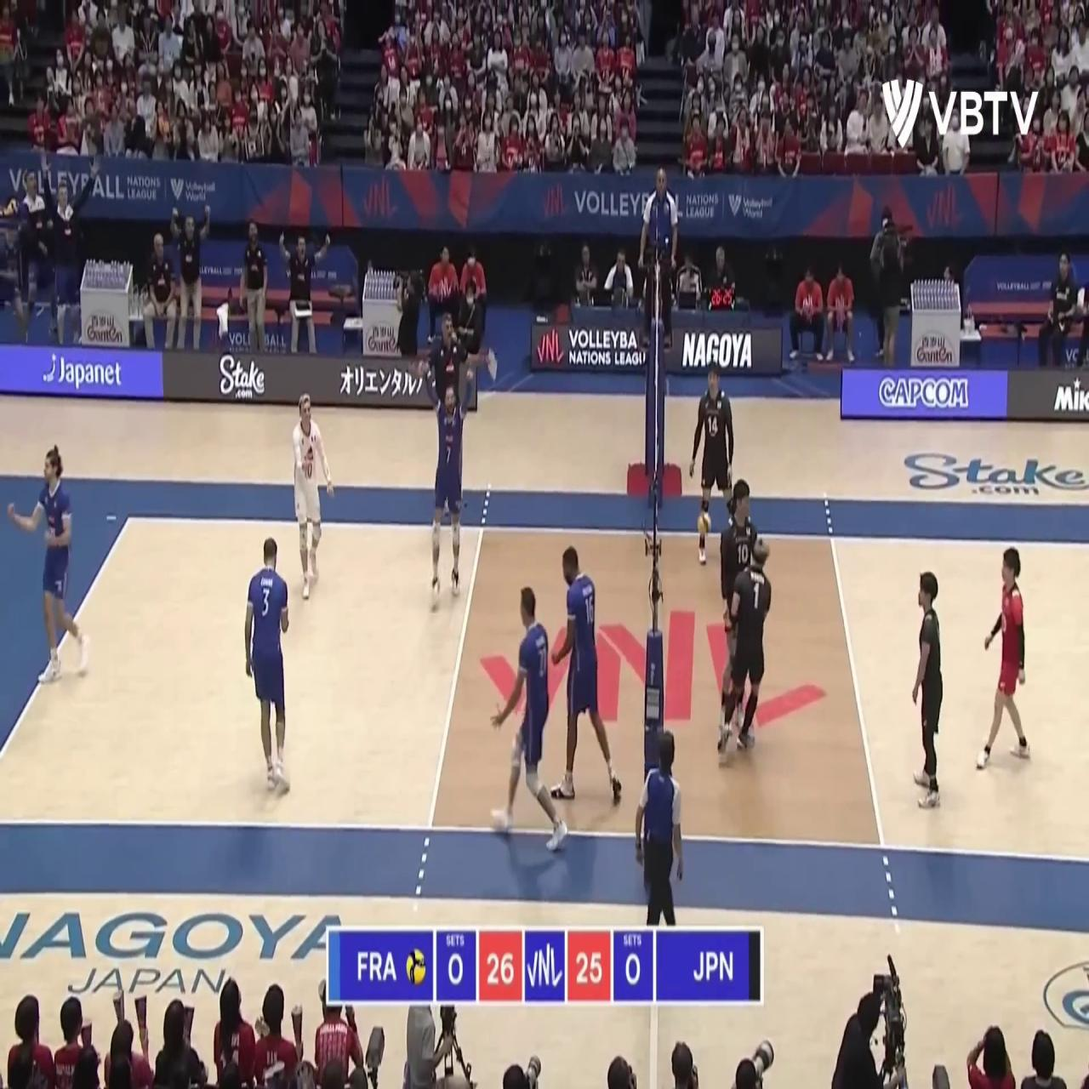ball: (698, 511, 712, 536)
